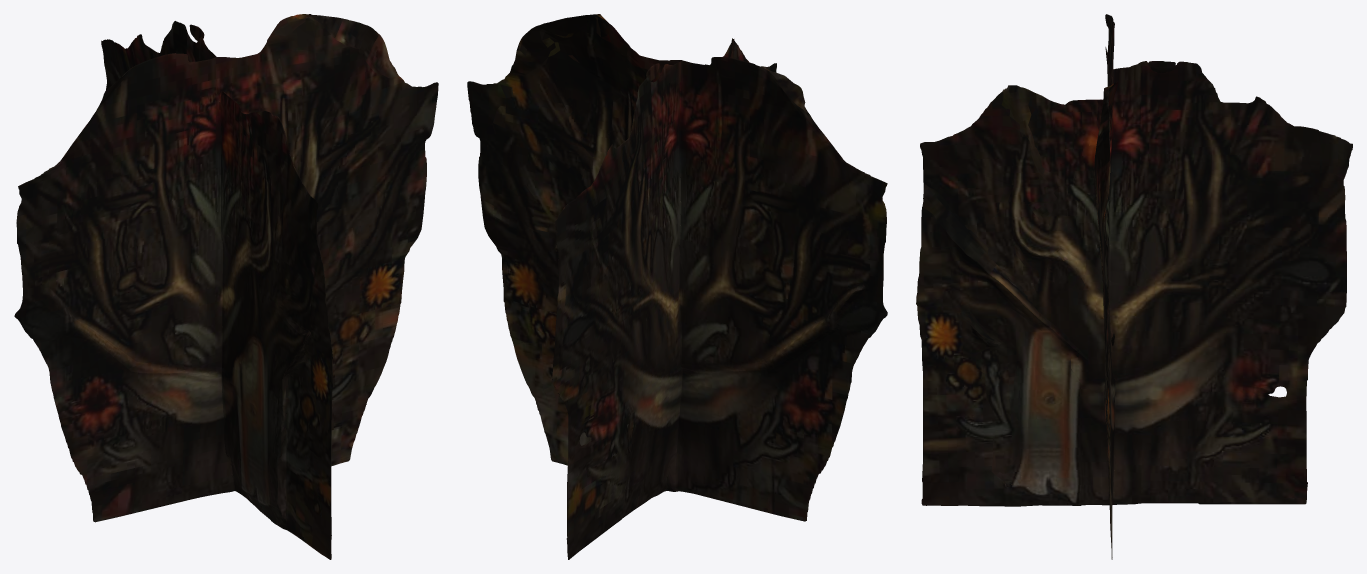
The model's file is bush.glb.
3 renders of one model, left to right at view 1: azimuth 30°, elevation 25°; view 2: azimuth 150°, elevation 25°; view 3: azimuth 270°, elevation 25°, orthographic.
Visible parts, largest first — view 1: world; view 2: world; view 3: world.
Part boxes in pixels (x1,y1,x2,y2): world: [14, 14, 438, 559]; world: [467, 14, 887, 559]; world: [916, 14, 1352, 559].
Bounding box in the file's own units: 0.9308 × 0.9657 × 0.8452.
1 material, 1 textured.
